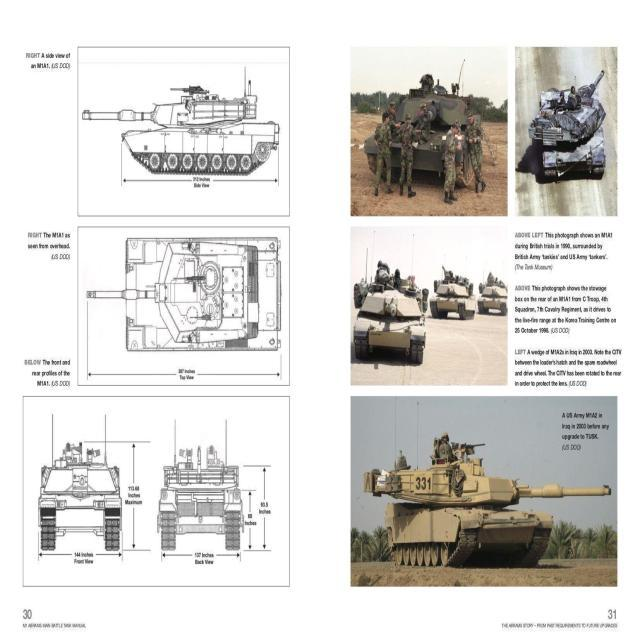MIL_MBT: (362, 430, 615, 563), (100, 228, 284, 375), (82, 76, 290, 188), (365, 63, 488, 196), (31, 422, 134, 562), (156, 417, 246, 562), (536, 69, 611, 196), (352, 247, 429, 367), (431, 247, 472, 335), (476, 249, 507, 329)
